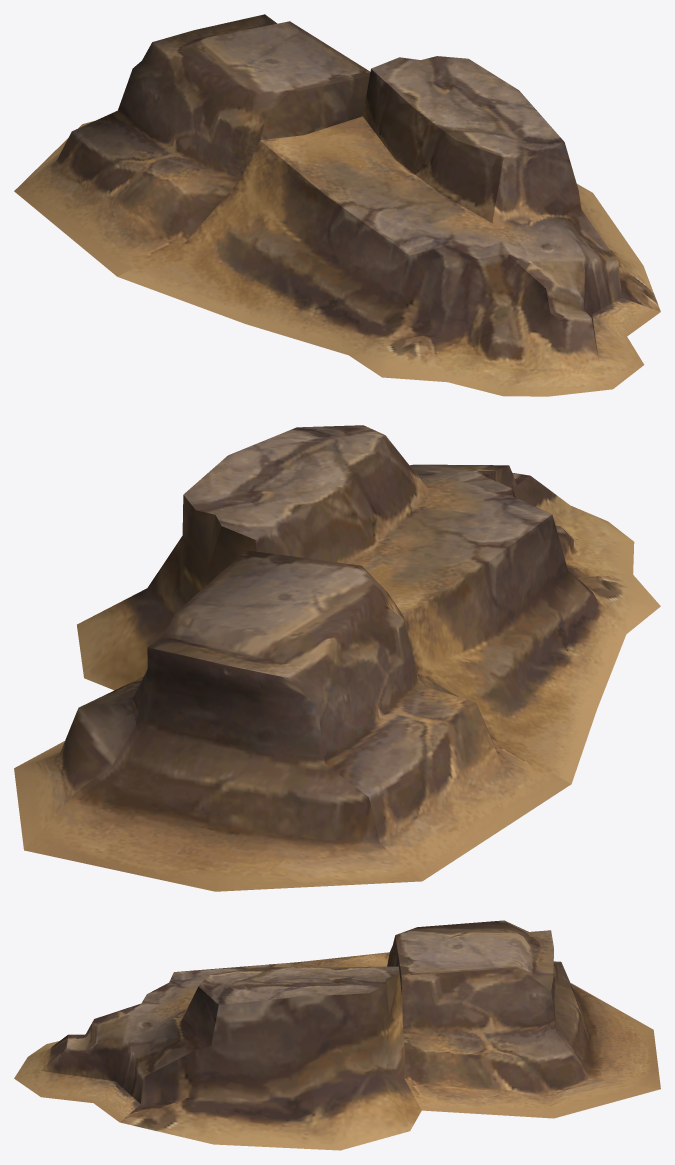
File: xsm_shitou_5.FBX
3 renders of one model, top to bottom at view 1: azimuth 30°, elevation 25°; view 2: azimuth 150°, elevation 25°; view 3: azimuth 270°, elevation 25°, orthographic. The views are drawn at different scales.
Visible parts, largest first — view 1: xsm_shitou_5; view 2: xsm_shitou_5; view 3: xsm_shitou_5.
Part boxes in pixels (x1,y1,x2,y2): xsm_shitou_5: (14, 14, 660, 396); xsm_shitou_5: (14, 425, 660, 891); xsm_shitou_5: (14, 920, 660, 1150).
Size of the model in its own units: 53.45 by 17.73 by 85.49.
